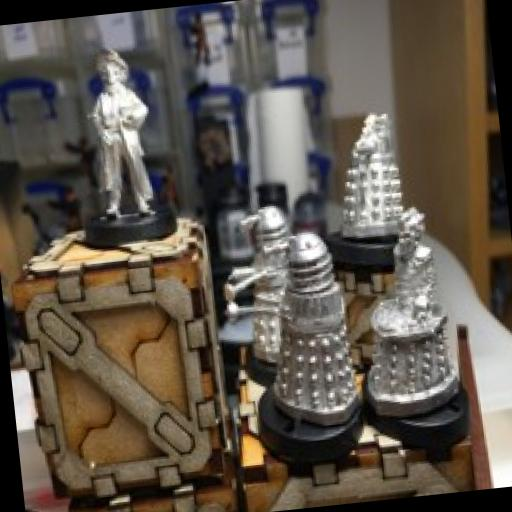dalek: (216, 220, 360, 430), (348, 206, 466, 418), (211, 204, 315, 368), (326, 104, 413, 242)
